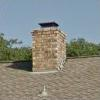Chimney: (23, 11, 68, 73)
